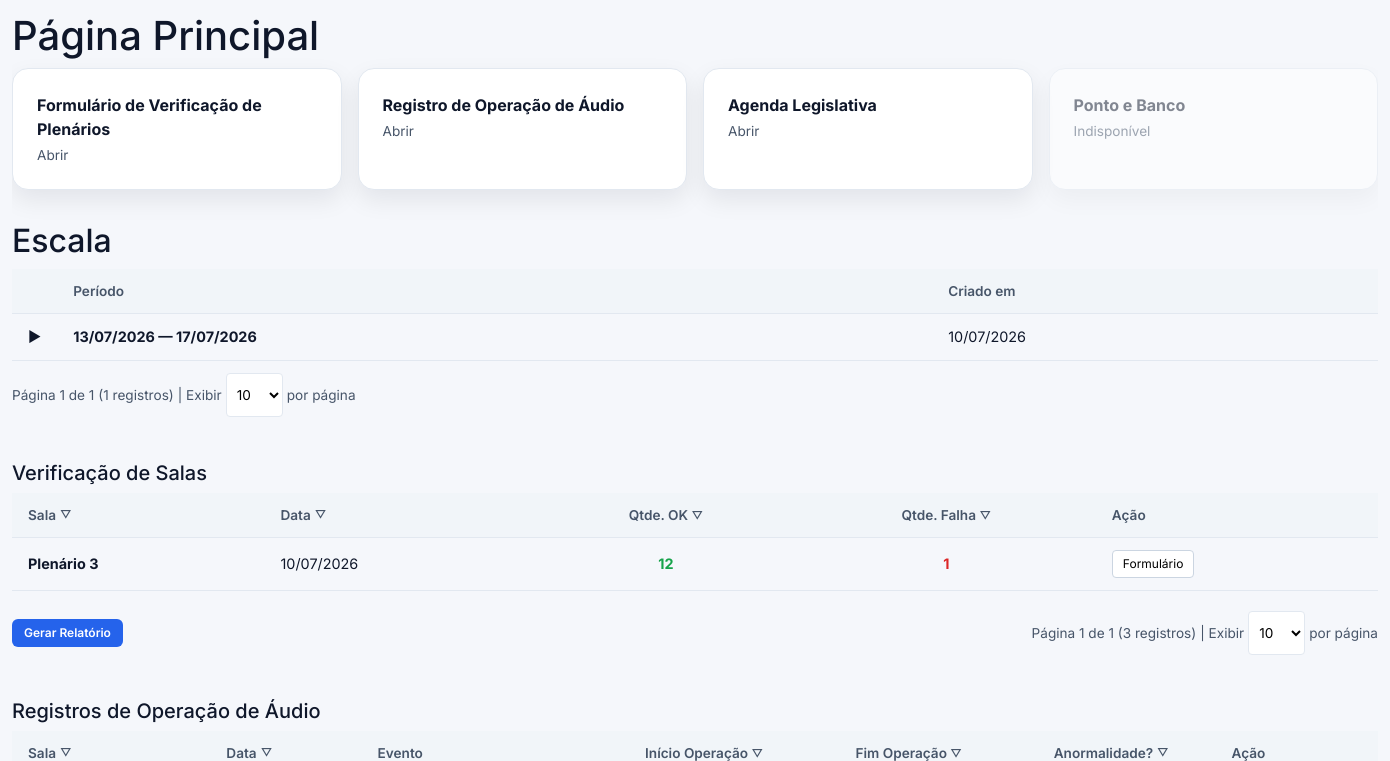
Scenario: HomeComponent (canal de erro das listagens) › seção Escala › acordeão (drill-down por escala) › vazio LEGÍTIMO do detalhe (resumo:[]): "Nenhum operador escalado.", sem caixa
What coordinates should you click on to do the following:
click the row with class "escala-row"
I would click on:
 (695, 337)
Its box is [12,314,1378,360].
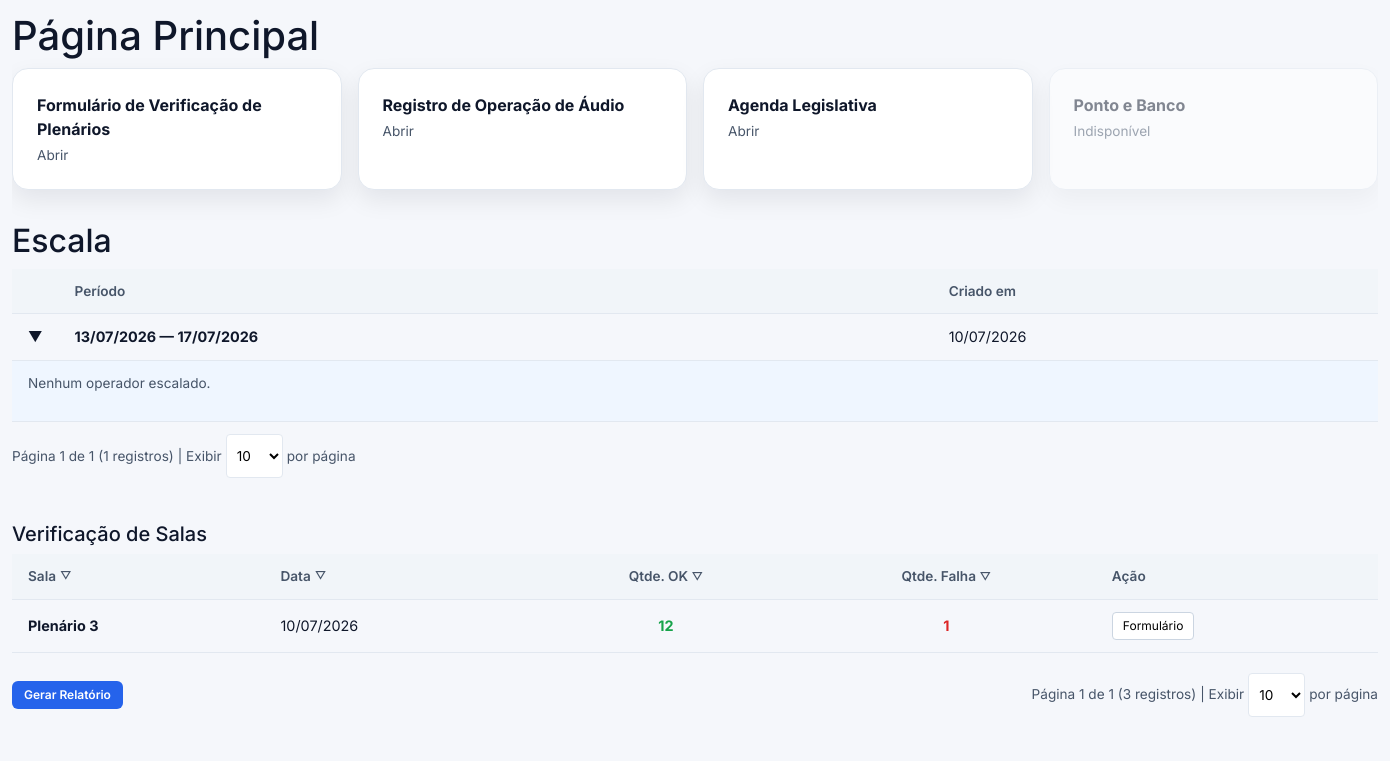
Check: the element with class "escala-section" shows "Nenhum operador escalado.", box [28,375,210,391]
